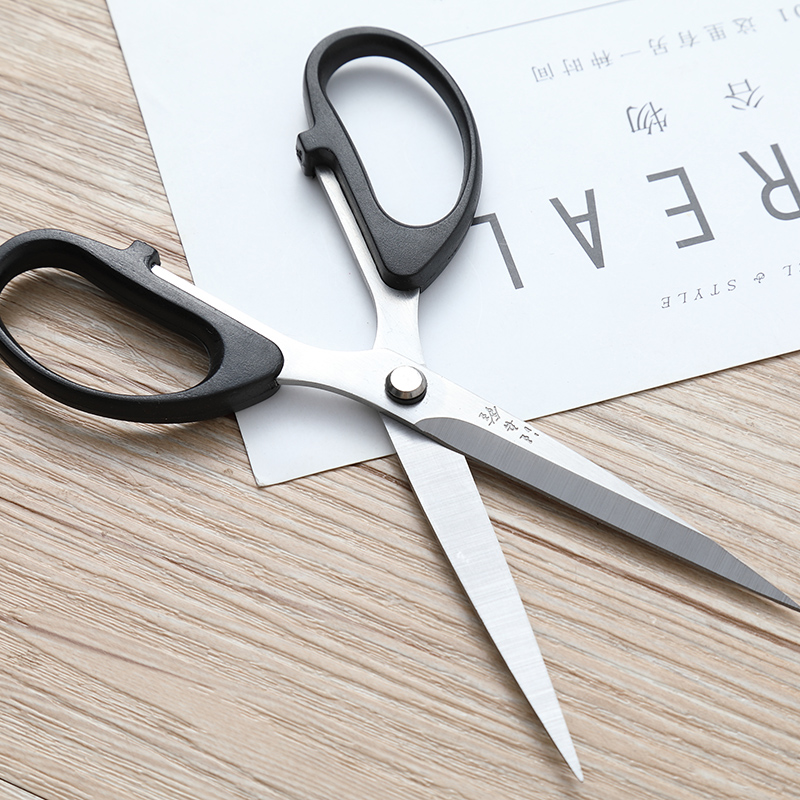scissors: (1, 21, 792, 777)
